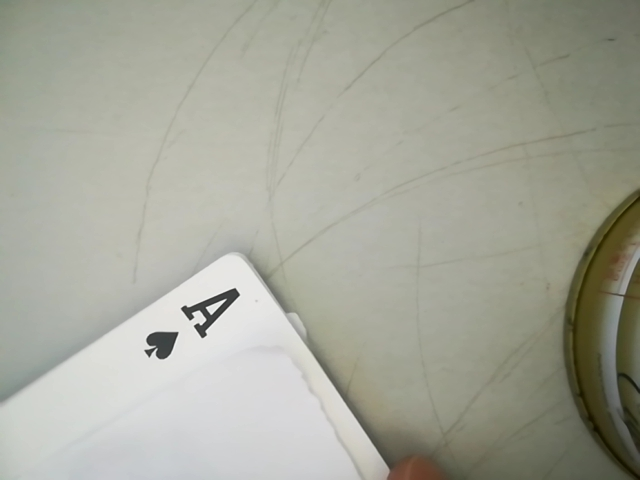ht a: (123, 274, 258, 359)
